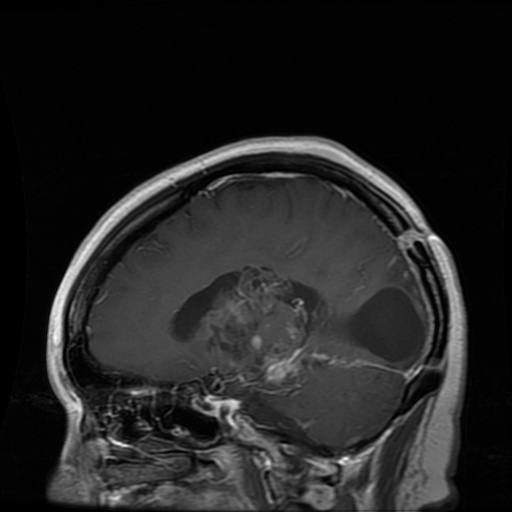glioma: (353, 286, 425, 363)
